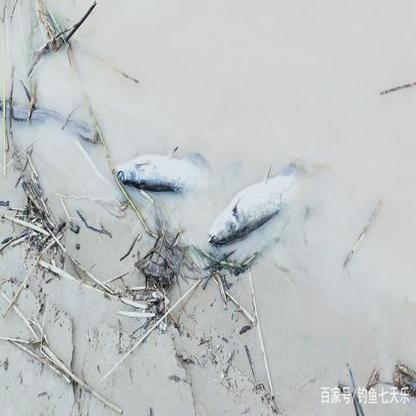deceased fish: (202, 163, 305, 246), (116, 150, 204, 190)
